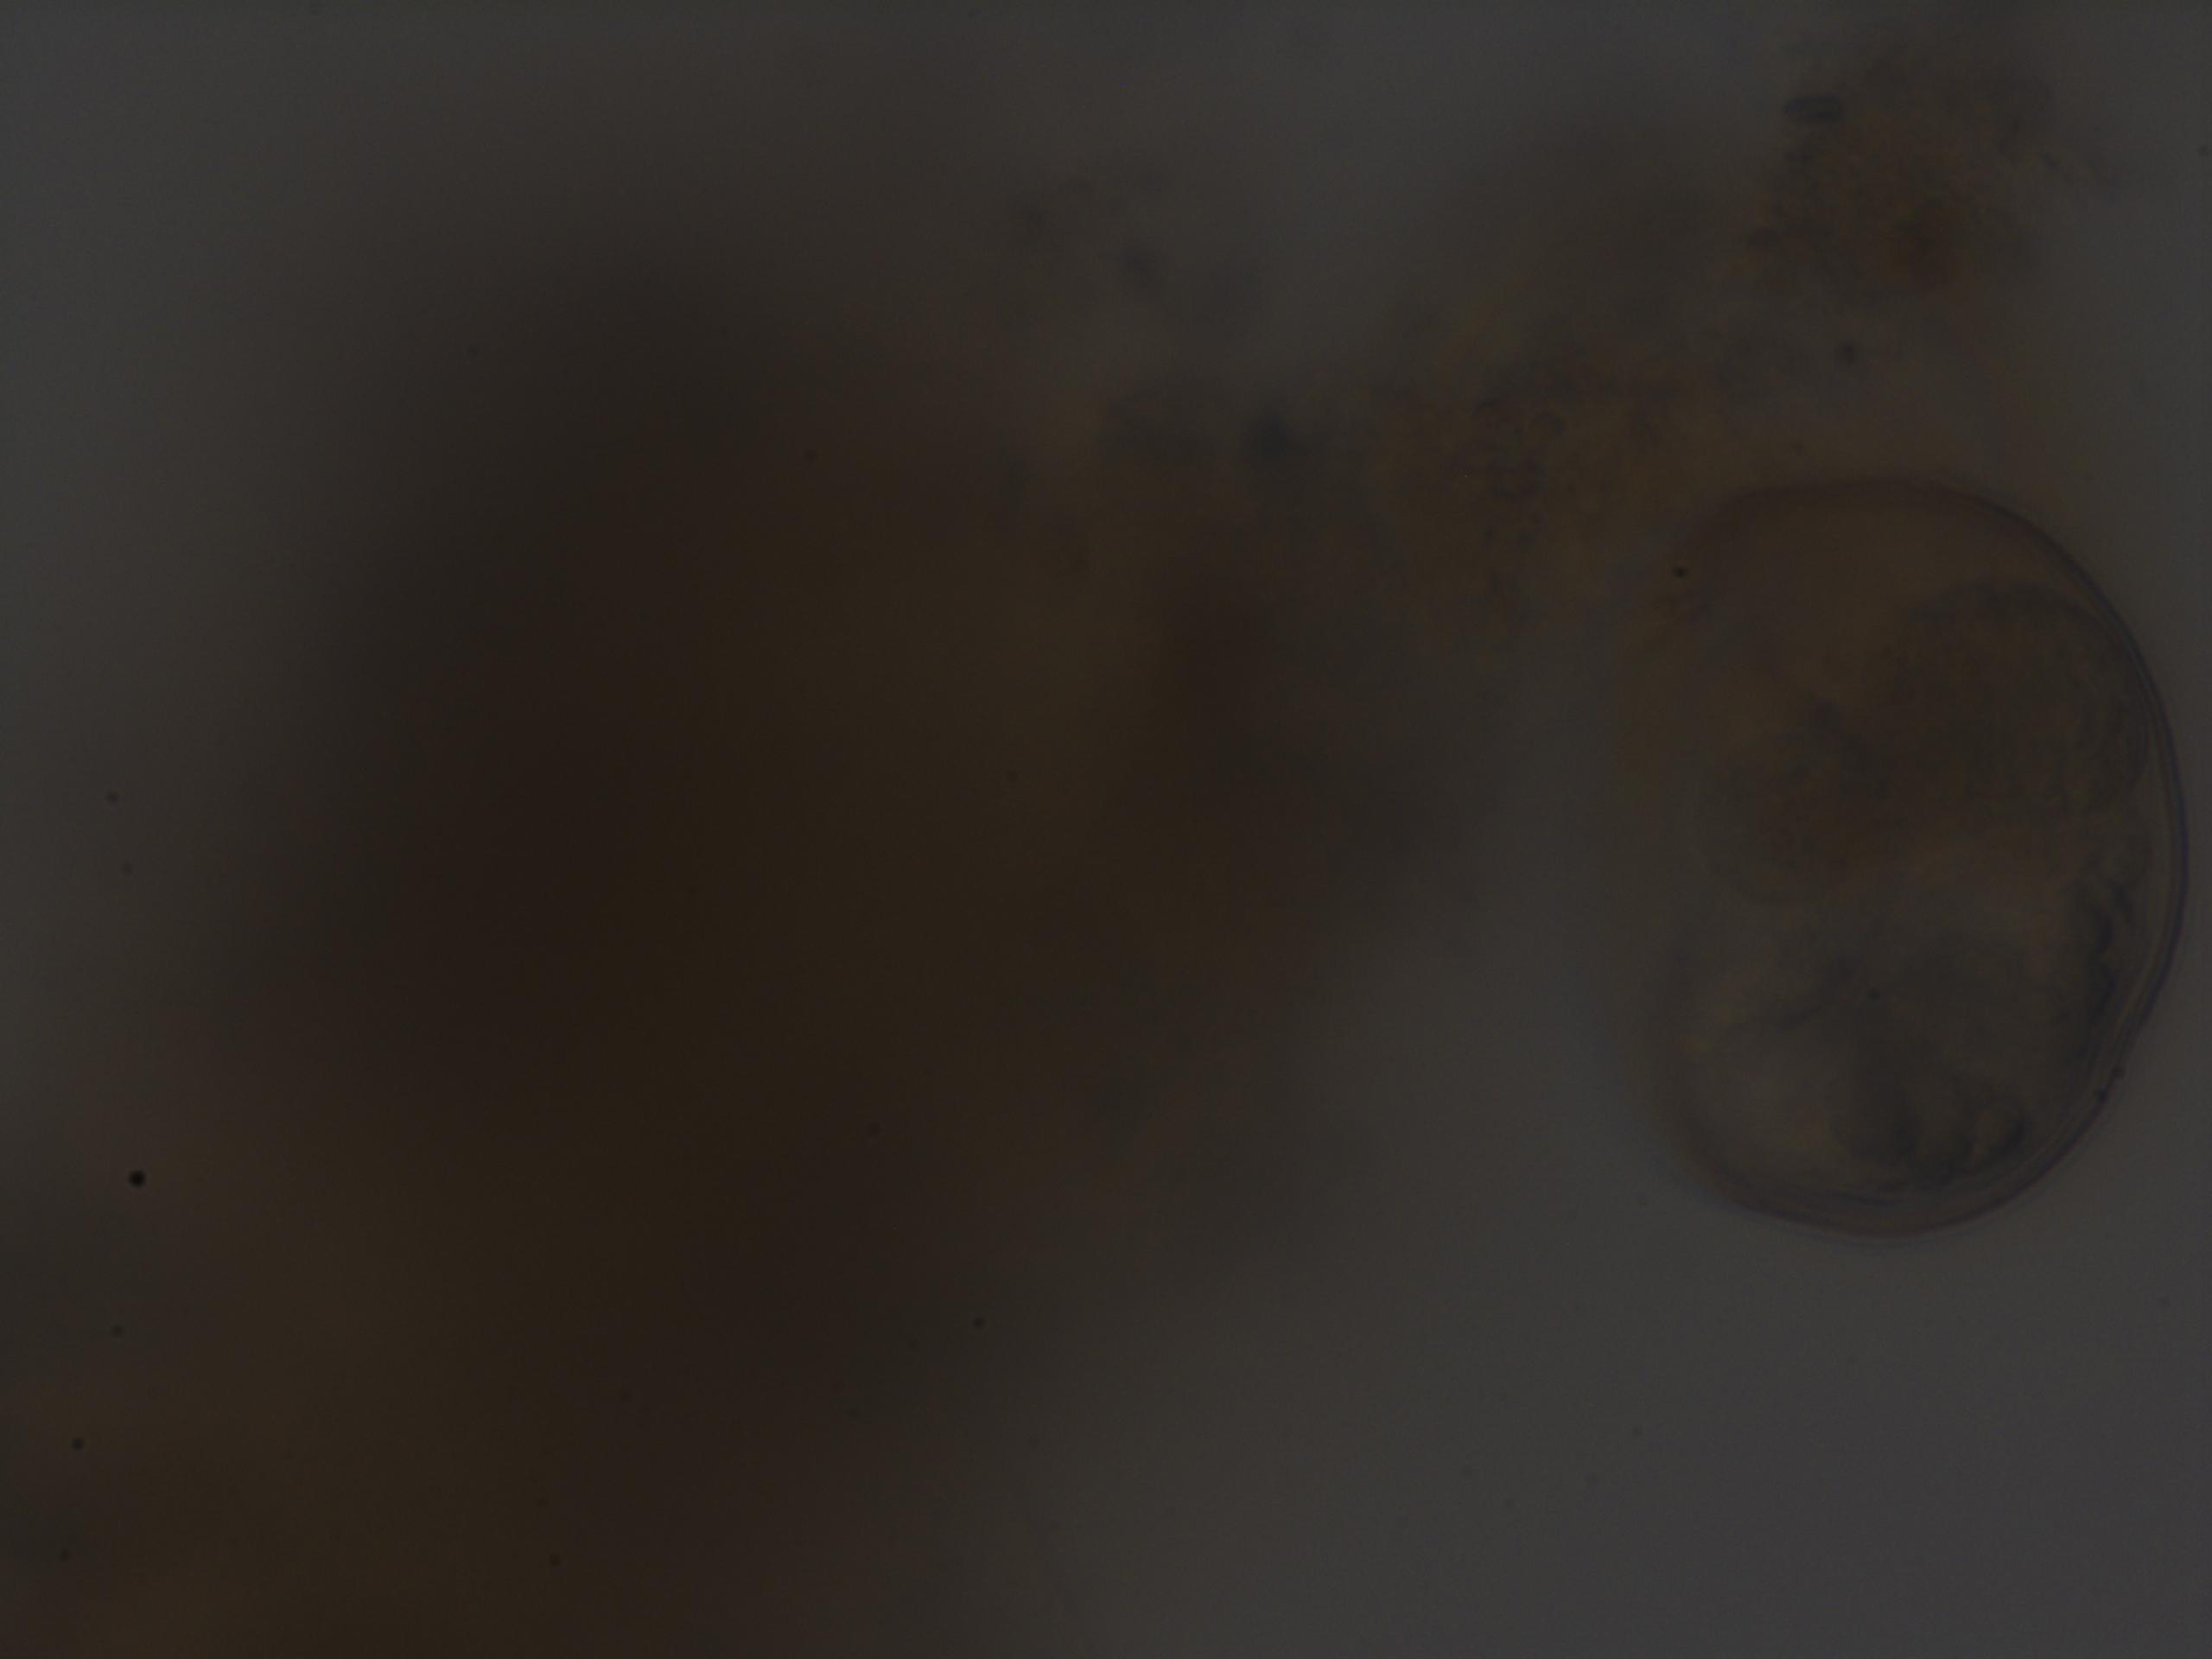protozoa: (1604, 453, 2212, 1258)
spherical_floc: (0, 77, 1407, 1659)
